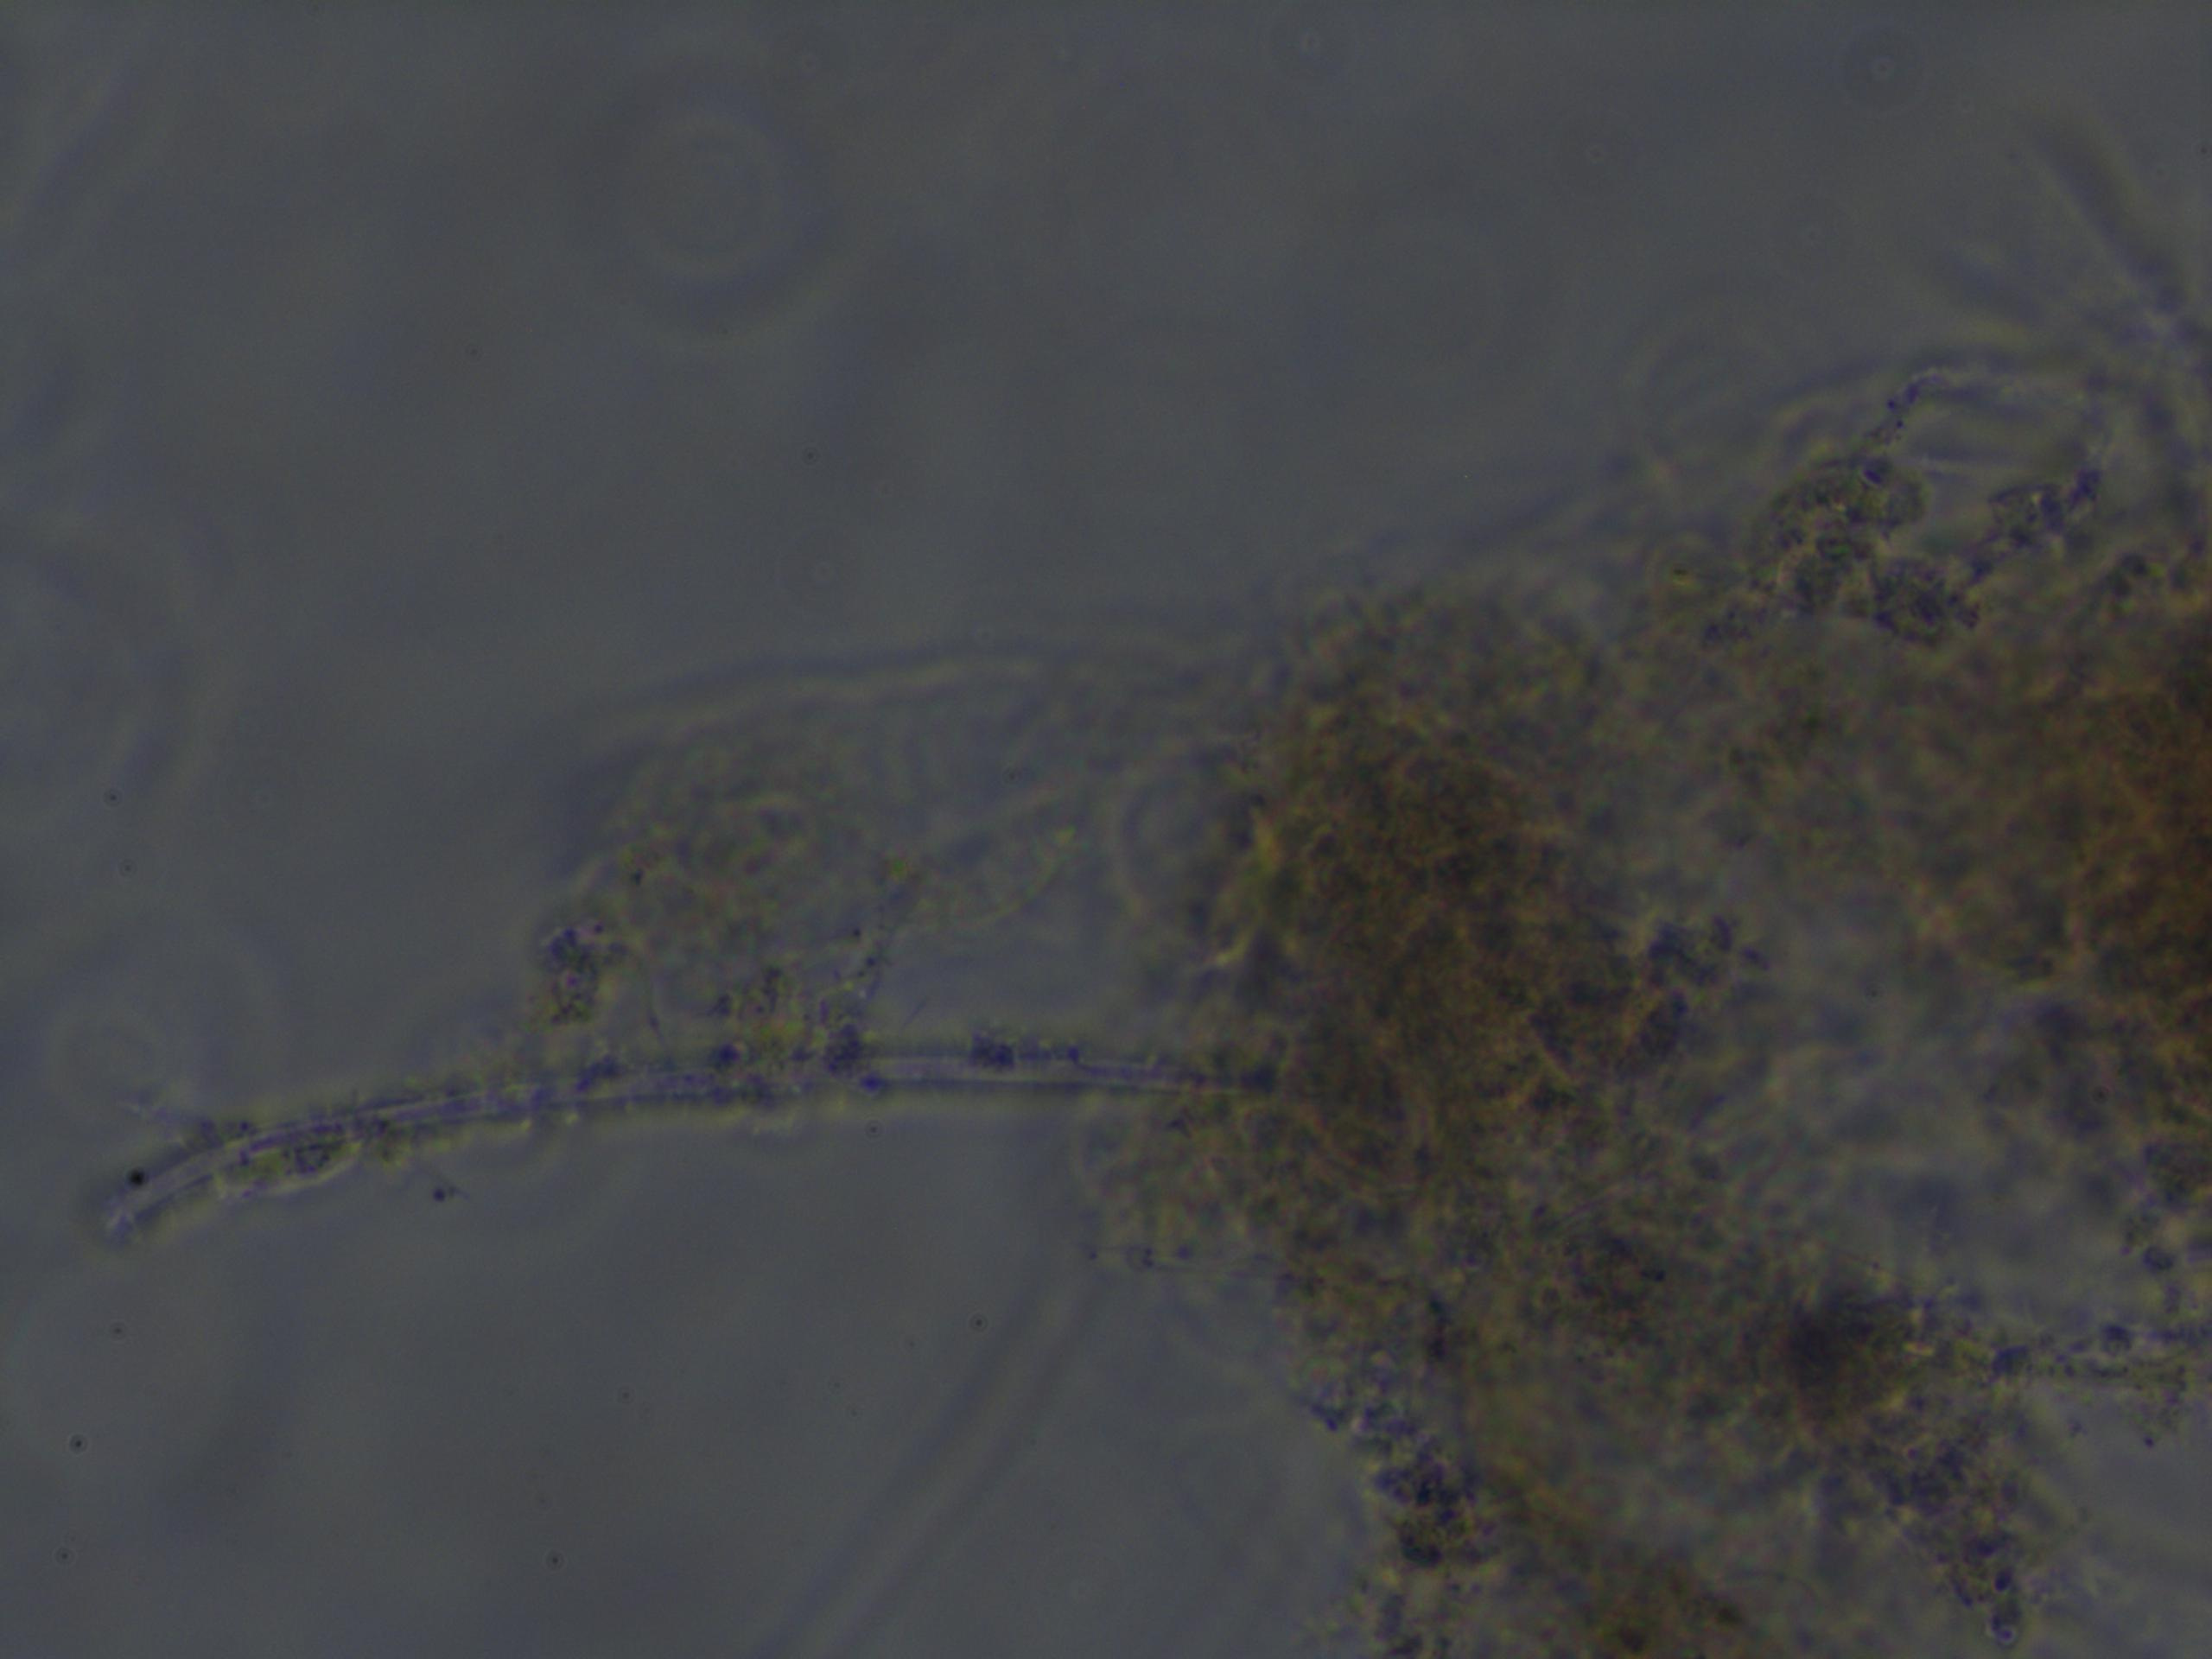filament: (108, 1000, 1209, 1258), (730, 1241, 1120, 1659), (1942, 117, 2212, 481)
